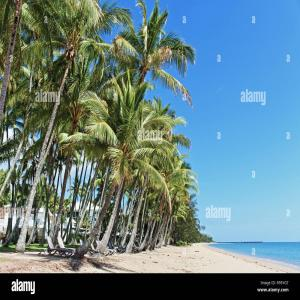palm tree: (8, 0, 133, 253), (58, 68, 191, 256)
